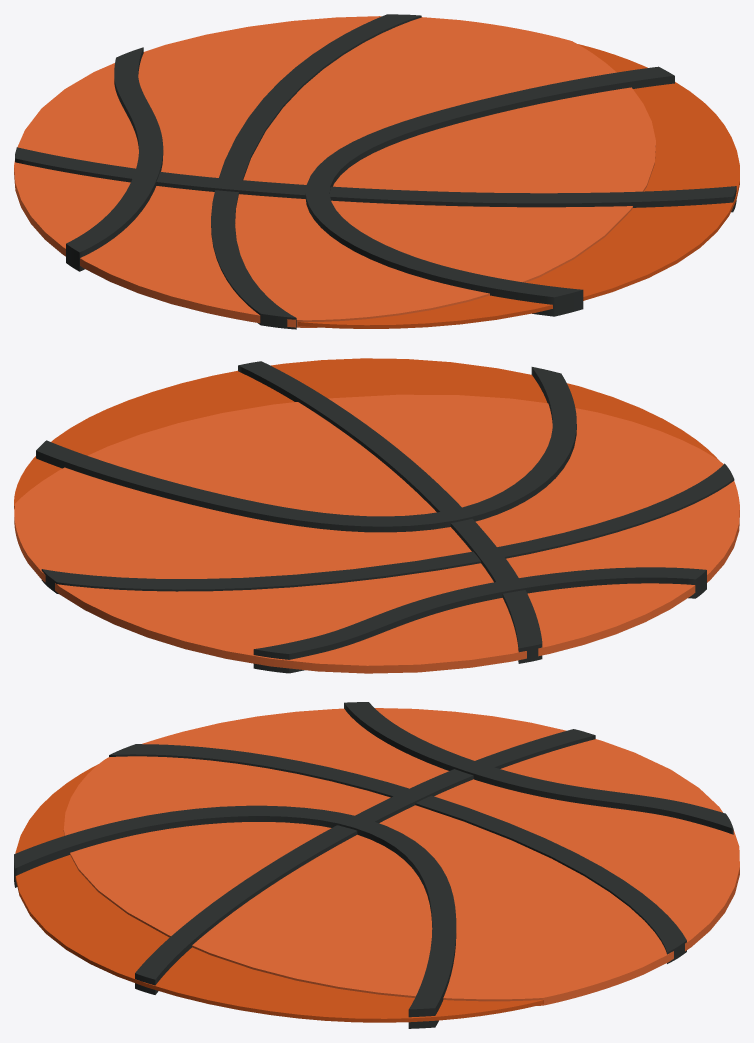
The model's file is emoji_u1f3c0.glb.
3 views of the same model, one above another, from view 1: azimuth 30°, elevation 25°; view 2: azimuth 150°, elevation 25°; view 3: azimuth 270°, elevation 25° (orthographic).
Parts seen in each view (by area): view 1: emoji_u1f3c0; view 2: emoji_u1f3c0; view 3: emoji_u1f3c0.
Part boxes in pixels (bbox=[...]): emoji_u1f3c0: bbox=[14, 14, 739, 329]; emoji_u1f3c0: bbox=[14, 358, 739, 673]; emoji_u1f3c0: bbox=[14, 702, 739, 1028].
Bounding box in the file's own units: 0.0341 × 0.001 × 0.0339.
